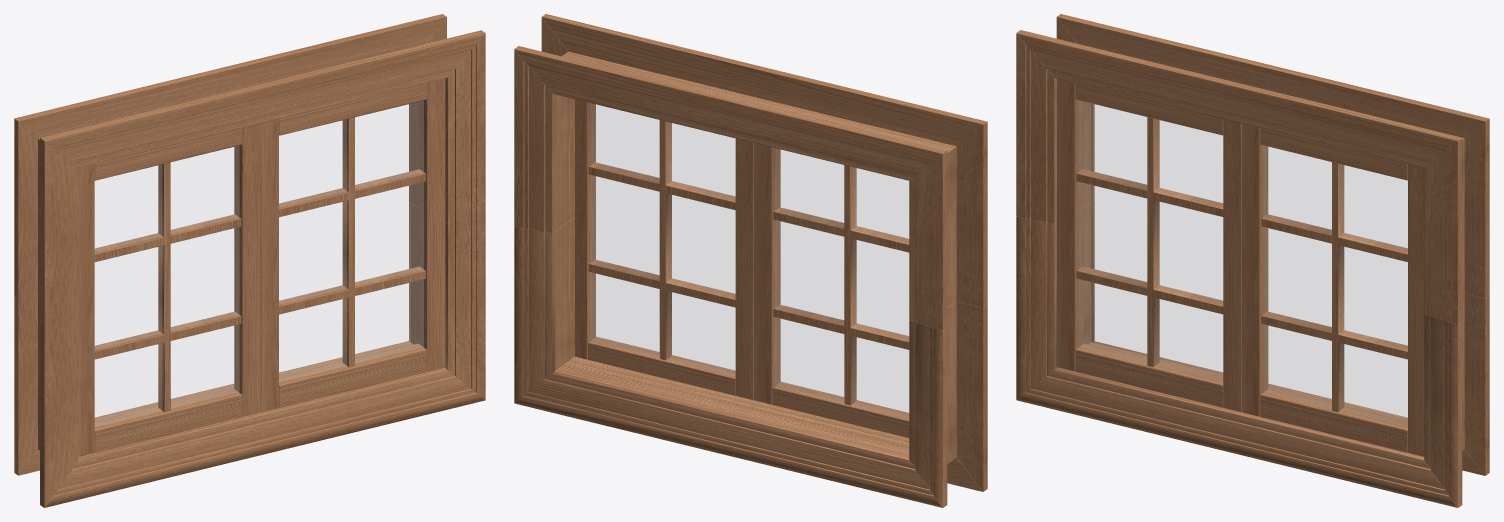
Rendered from Window.glb.
The picture shows the model from 3 angles, left to right: view 1: azimuth 30°, elevation 25°; view 2: azimuth 150°, elevation 25°; view 3: azimuth 330°, elevation 25°; orthographic projection.
Visible parts, largest first — view 1: d2.001, d2.003, d2.002, d2.004; view 2: d2.001, d2.003, d2.002, d2.004; view 3: d2.001, d2.003, d2.004, d2.002.
Boxes of the visible parts, x1,y1,x2,y2 form: d2.001: (14, 14, 485, 507); d2.003: (95, 101, 423, 426); d2.002: (260, 78, 445, 412); d2.004: (78, 123, 260, 456); d2.001: (514, 14, 987, 507); d2.003: (590, 103, 908, 417); d2.002: (575, 99, 753, 400); d2.004: (754, 143, 909, 437); d2.001: (1016, 14, 1489, 507); d2.003: (1079, 101, 1407, 426); d2.004: (1057, 78, 1241, 412); d2.002: (1242, 123, 1424, 456).
Bounding box in the file's own units: 0.9914 × 0.7878 × 0.1465.
2 materials, 1 textured.
